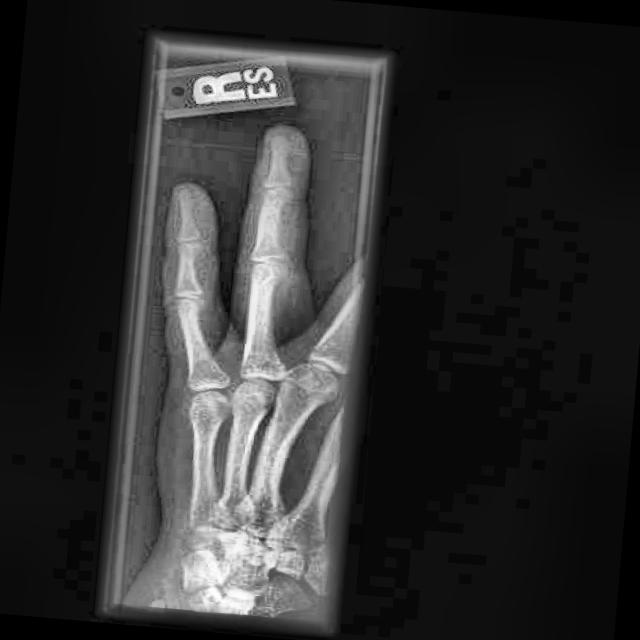fingers positive: (254, 243, 298, 292), (249, 181, 291, 219)
